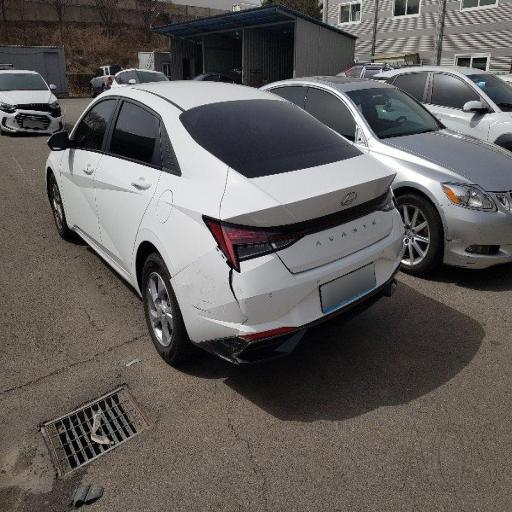broken: (176, 177, 302, 343)
